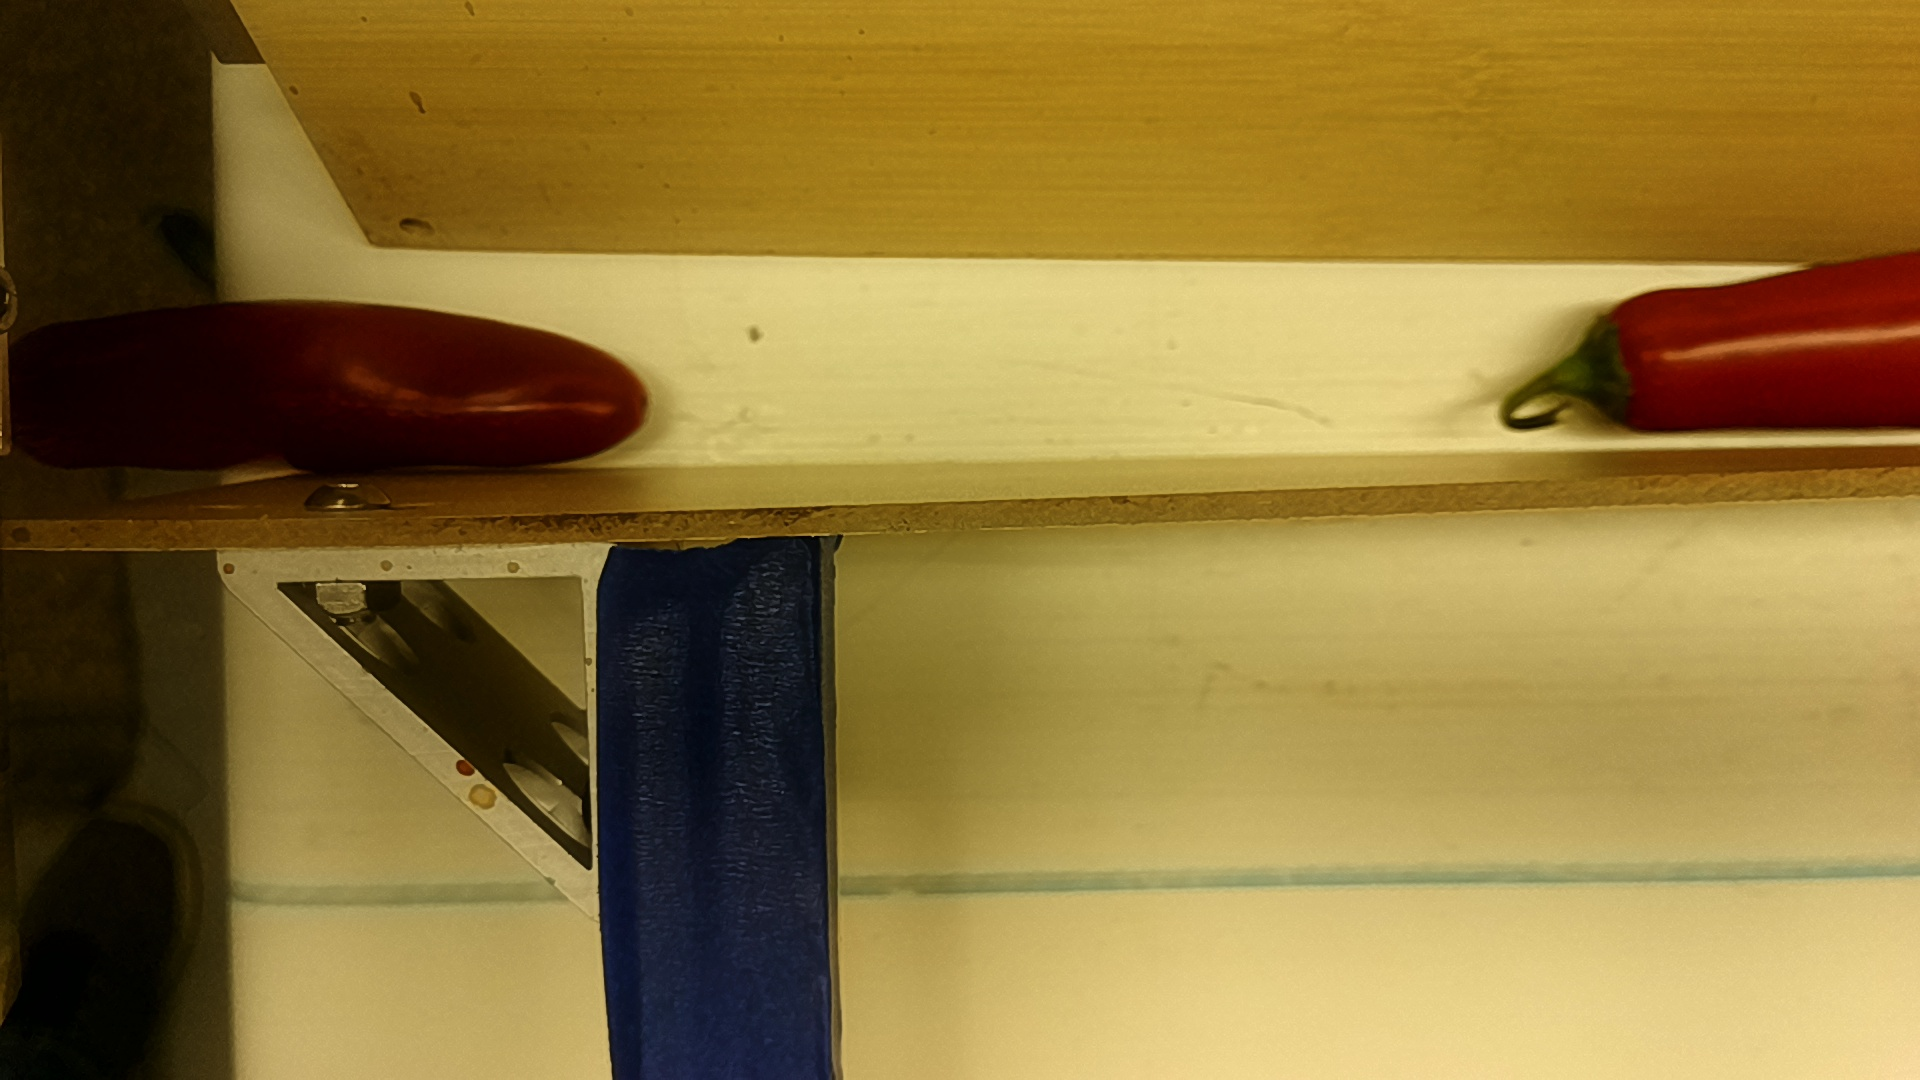Cut Point: (1571, 284, 1659, 439)
